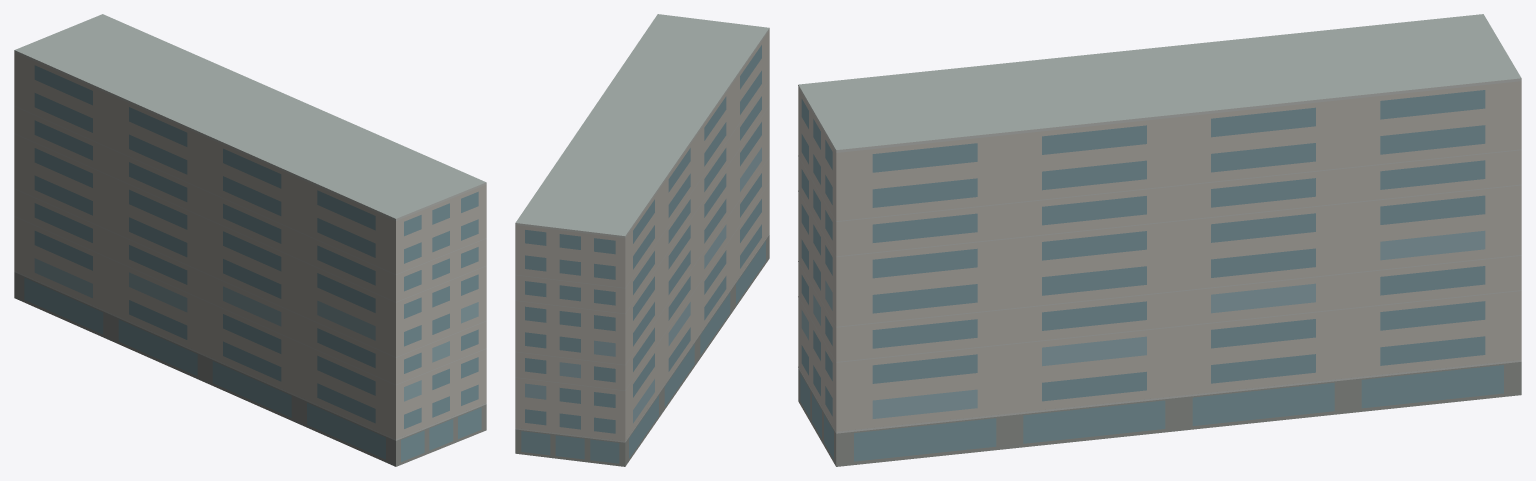
The model's file is survey-upis-32707586.glb.
3 renders of one model, left to right at view 1: azimuth 30°, elevation 25°; view 2: azimuth 150°, elevation 25°; view 3: azimuth 270°, elevation 25°, orthographic. The views are drawn at different scales.
Visible parts, largest first — view 1: survey-upis-32707586.tmp; view 2: survey-upis-32707586.tmp; view 3: survey-upis-32707586.tmp.
Part boxes in pixels (x1,y1,x2,y2): survey-upis-32707586.tmp: (14,14,486,466); survey-upis-32707586.tmp: (515,14,769,466); survey-upis-32707586.tmp: (798,14,1521,466).
Size of the model in its own units: 25.29 by 27.4 by 56.74.
